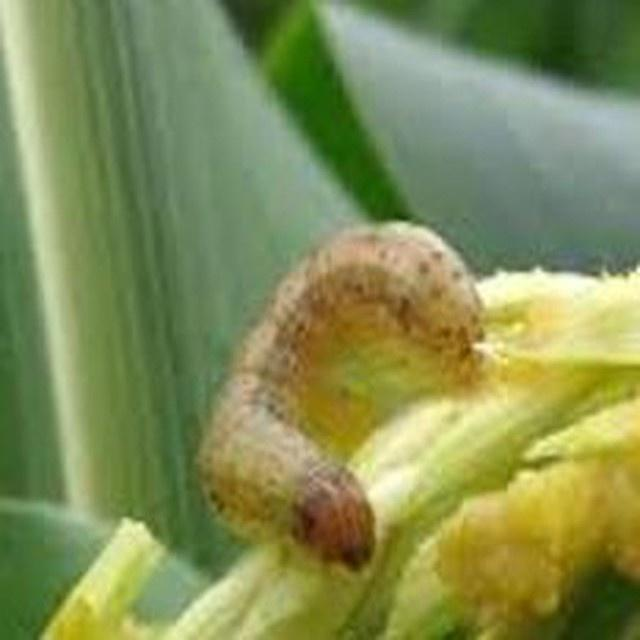gusano_cogollero: (195, 218, 488, 582)
